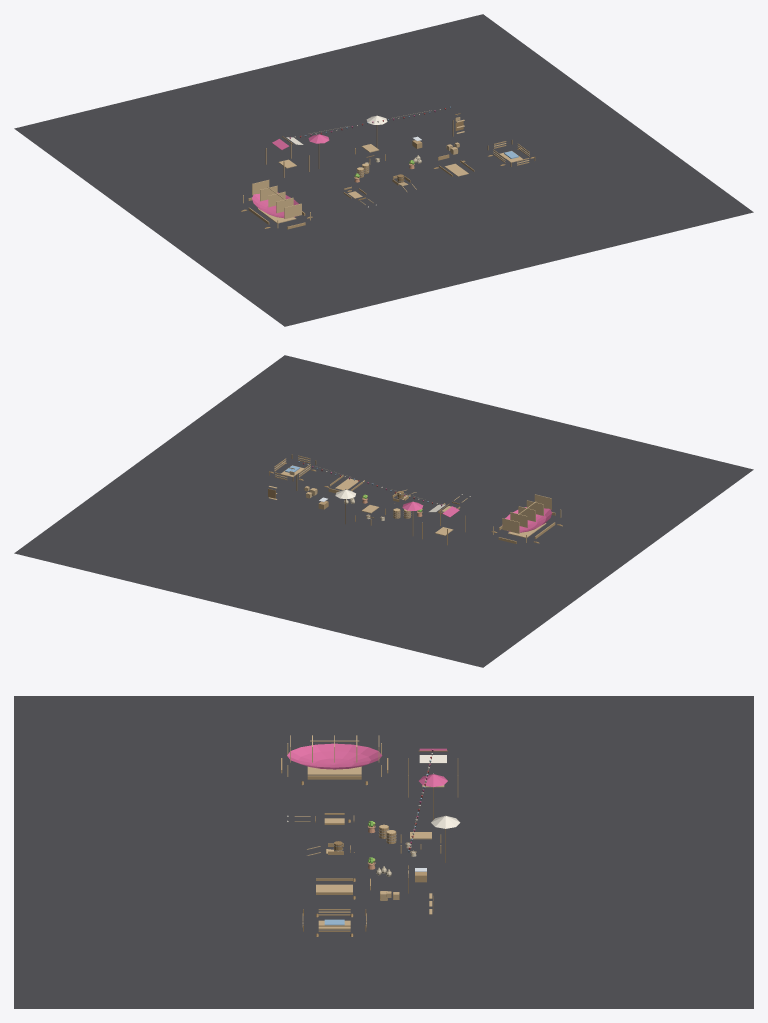
File: Marketplace_Pack.glb
3 renders of one model, top to bottom at view 1: azimuth 30°, elevation 25°; view 2: azimuth 150°, elevation 25°; view 3: azimuth 270°, elevation 25°, orthographic. The views are drawn at different scales.
Visible parts, largest first — view 1: Ground, Covered_Wagon; view 2: Ground, Covered_Wagon; view 3: Ground, Covered_Wagon, Cargo_Wagon, Flatbed_Wagon, Market_Tent_1.
Part boxes in pixels (x1,y1,x2,y2): Ground: (14, 14, 753, 326); Covered_Wagon: (241, 180, 312, 229); Ground: (14, 355, 753, 667); Covered_Wagon: (491, 494, 562, 543); Ground: (14, 696, 753, 1008); Covered_Wagon: (281, 735, 388, 785); Cargo_Wagon: (302, 909, 366, 936); Flatbed_Wagon: (316, 878, 370, 899); Market_Tent_1: (408, 748, 458, 797).
Bounding box in the file's own units: 30 × 3.11 × 30.
